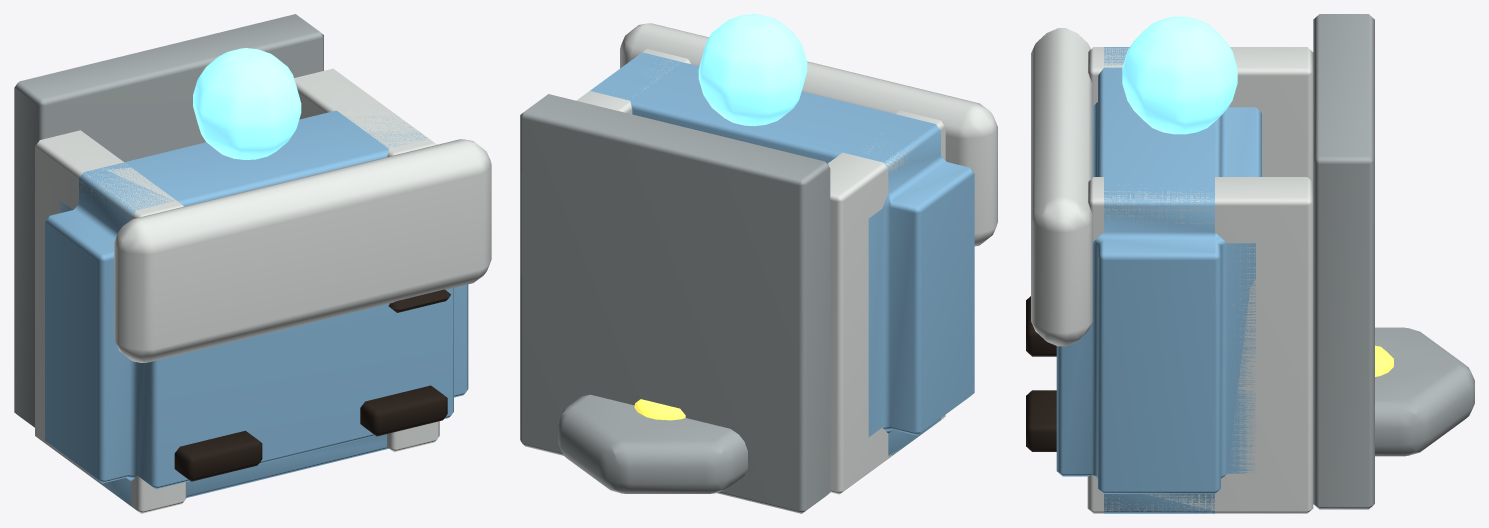
Rendered from chatterbox_notion_pack.glb.
3 views of the same model, side by side, from view 1: azimuth 30°, elevation 25°; view 2: azimuth 150°, elevation 25°; view 3: azimuth 270°, elevation 25° (orthographic). The views are drawn at different scales.
Visible parts, largest first — view 1: chatterbox_notion_pack; view 2: chatterbox_notion_pack; view 3: chatterbox_notion_pack.
Part boxes in pixels (bbox=[...]): chatterbox_notion_pack: bbox=[14, 14, 491, 513]; chatterbox_notion_pack: bbox=[520, 14, 997, 513]; chatterbox_notion_pack: bbox=[1026, 14, 1474, 513].
Bounding box in the file's own units: 0.44 × 0.4455 × 0.4375.
Materials: 1 (1 with a texture image).
